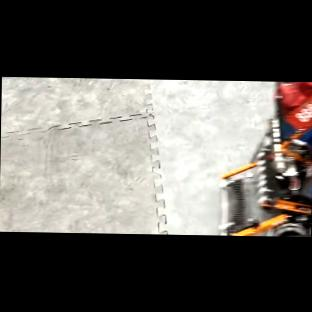Robot: (213, 80, 312, 236)
